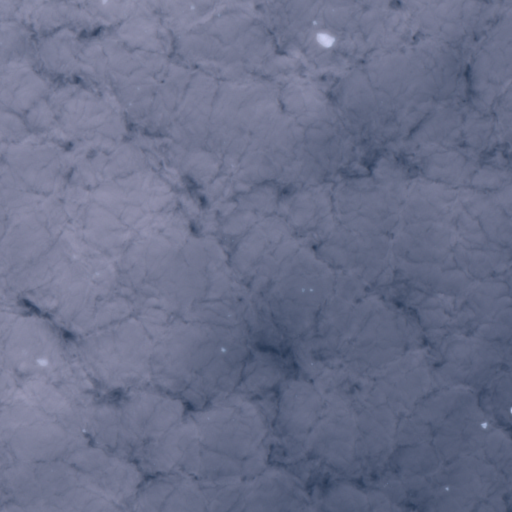Iceberg: (316, 33, 334, 47), (37, 359, 47, 365), (481, 422, 487, 428), (190, 5, 194, 9), (221, 347, 225, 351), (313, 21, 316, 24), (82, 429, 85, 432), (445, 487, 448, 490), (302, 288, 304, 291), (510, 407, 511, 413), (310, 289, 312, 290), (311, 363, 312, 364)
